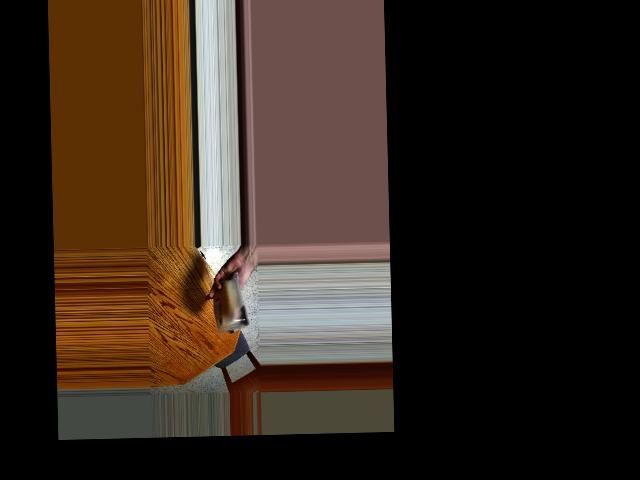cheese: (213, 282, 244, 329)
